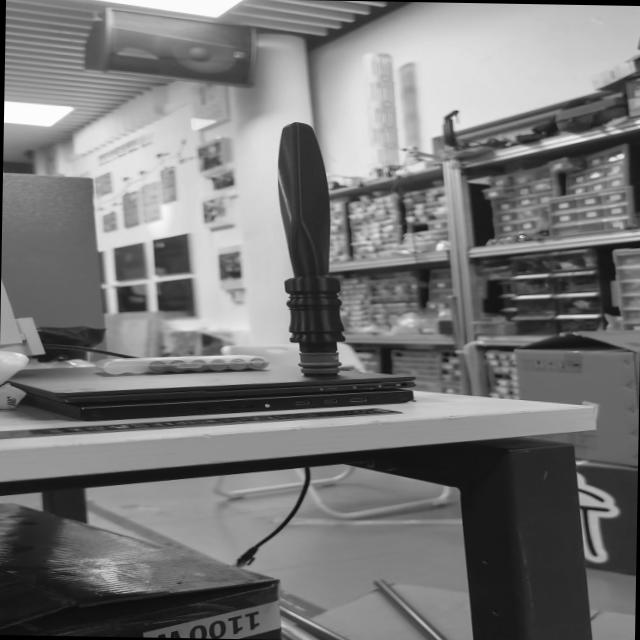base: (293, 350, 346, 381)
